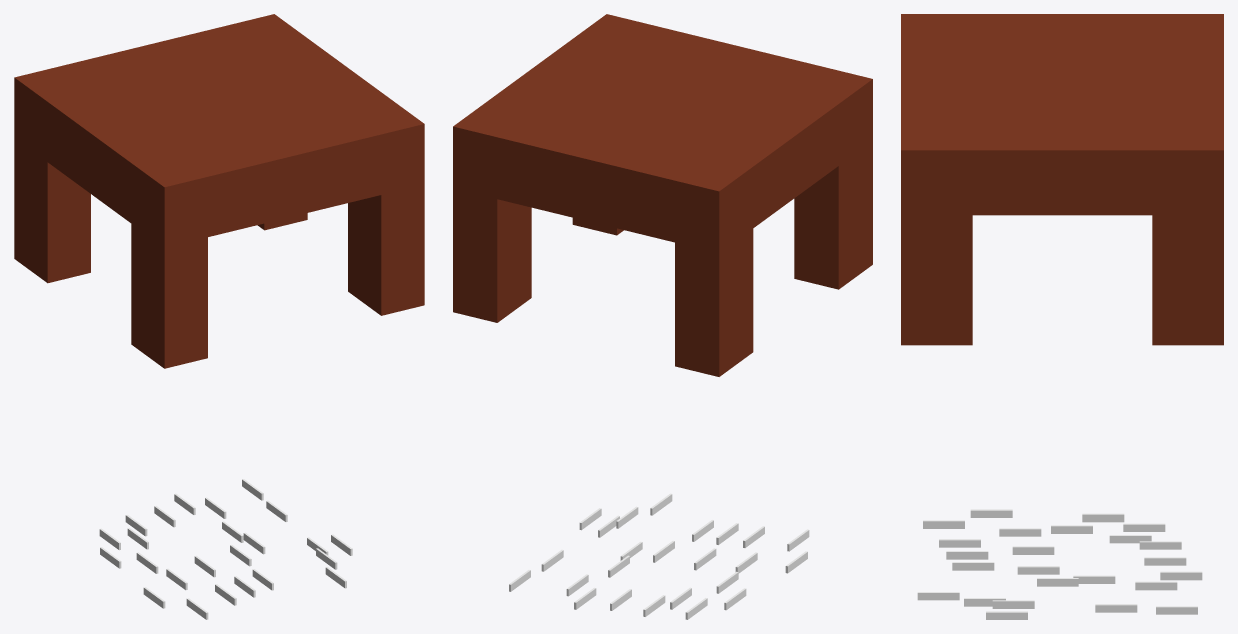
The model's file is problem_4.dae.
3 views of the same model, side by side, from view 1: azimuth 30°, elevation 25°; view 2: azimuth 150°, elevation 25°; view 3: azimuth 270°, elevation 25° (orthographic). The views are drawn at different scales.
Parts seen in each view (by area): view 1: base (×4); view 2: base (×4); view 3: base (×3).
Boxes of the visible parts, x1,y1,x2,y2 form: base (×4): [14, 14, 424, 368]; base (×4): [453, 14, 872, 376]; base (×3): [901, 14, 1223, 345].
Size of what is drawn, in the model's own units: 0.9 by 0.9 by 1.5.
